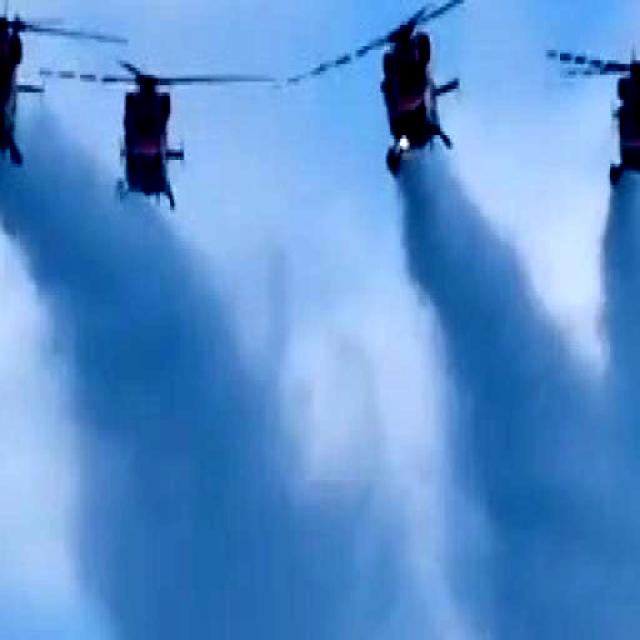drone: (301, 0, 539, 172), (62, 21, 259, 214), (558, 0, 640, 218), (0, 0, 85, 191)
